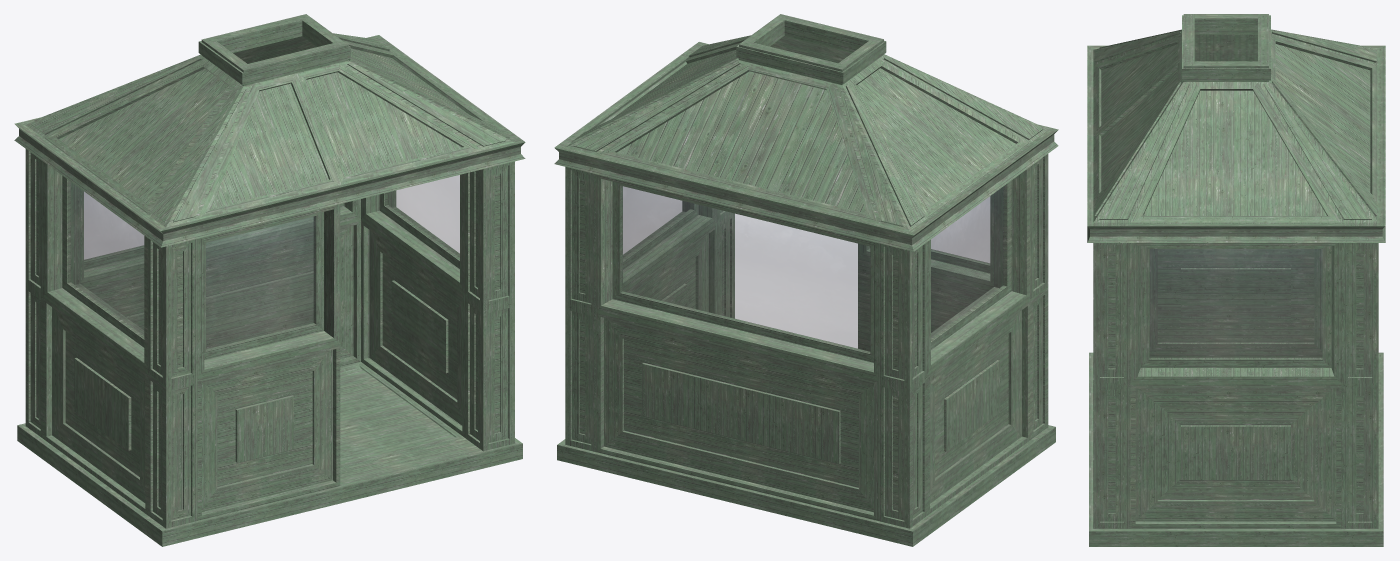
The picture shows the model from 3 angles, left to right: view 1: azimuth 30°, elevation 25°; view 2: azimuth 150°, elevation 25°; view 3: azimuth 270°, elevation 25°; orthographic projection. The views are drawn at different scales.
Visible parts, largest first — view 1: Plane; view 2: Plane; view 3: Plane.
Part boxes in pixels (x1=…): Plane: x1=14, y1=14, x2=525, y2=546; Plane: x1=554, y1=14, x2=1058, y2=546; Plane: x1=1087, y1=14, x2=1385, y2=546.
Size of the model in its own units: 244 by 263 by 170.
Materials: 2 (2 with a texture image).
